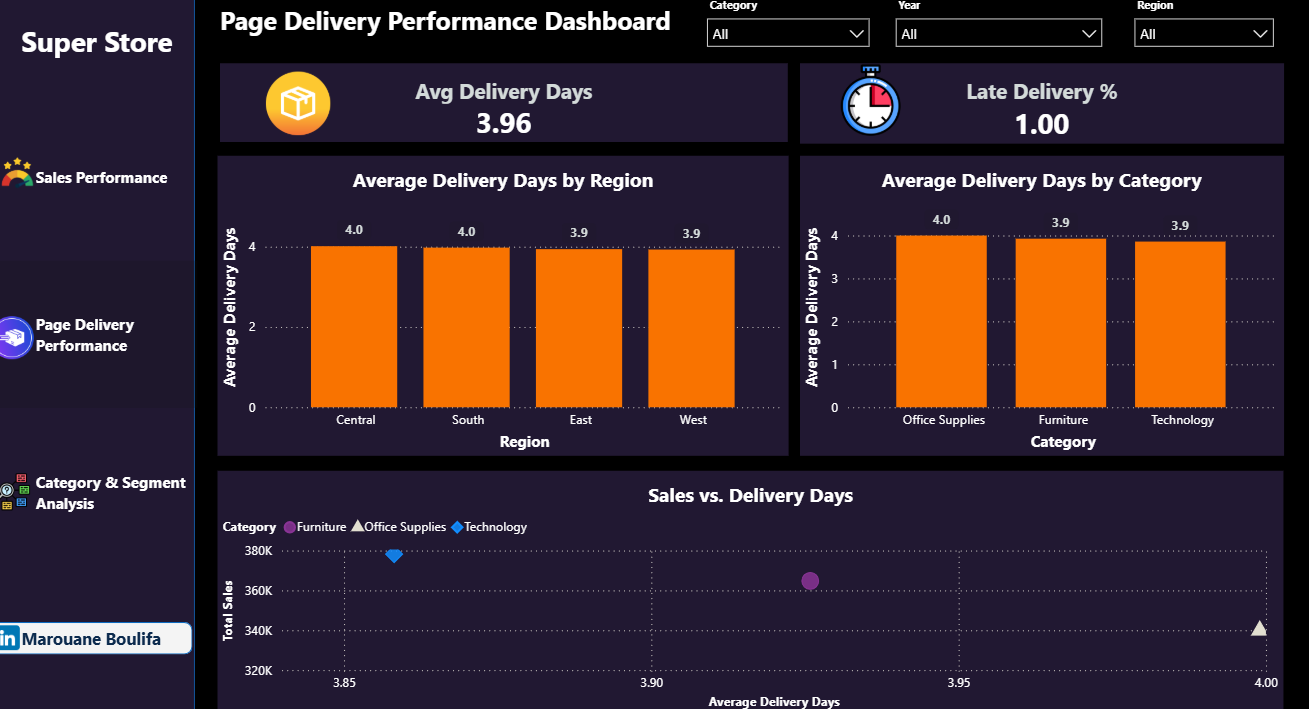

This screenshot's page, from the dashboard's own definition file:
{"tool":"powerbi","page":{"name":"Page Delivery Performance ","canvas":[1280,720],"ordinal":1},"visuals":[{"type":"card","title":"Avg Delivery Days","fields":{"Values":["Date_Table.Average Delivery Days"]},"box":[226.8,69.1,547.7,76],"z":0},{"type":"card","title":"Late Delivery %","fields":{"Values":["Date_Table.Late Delivery %"]},"box":[786.6,68.5,466.9,77.2],"z":1000},{"type":"clusteredColumnChart","title":"Average Delivery Days by Category","fields":{"Category":["train_clean.Category"],"Y":["Date_Table.Average Delivery Days"]},"box":[786.6,158,466.9,289.5],"z":2000},{"type":"clusteredColumnChart","title":"Average Delivery Days by Region","fields":{"Y":["Date_Table.Average Delivery Days"],"Category":["train_clean.Region"]},"box":[224.4,158,551.3,289.5],"z":3000},{"type":"scatterChart","title":"Sales vs. Delivery Days","fields":{"Series":["train_clean.Category"],"X":["Date_Table.Average Delivery Days"],"Y":["Date_Table.Total Sales"],"Size":["Date_Table.Total Sales"]},"box":[224.4,462.1,1029.1,235.3],"z":4000},{"type":"slicer","fields":{"Values":["train_clean.Category"]},"box":[686.5,0,177.3,60.3],"z":5000},{"type":"slicer","fields":{"Values":["Date_Table.Year"]},"box":[868.6,0,219.6,61.5],"z":6000},{"type":"slicer","fields":{"Values":["train_clean.Region"]},"box":[1099.1,0,154.4,60.3],"z":7000},{"type":"shape","box":[0,0,202.7,720.2],"z":8000},{"type":"shape","box":[226.8,0,436.7,54.3],"z":9000},{"type":"pageNavigator","box":[0,107.4,205.1,448.8],"z":10000},{"type":"shape","box":[0,16.9,216,59.1],"z":11000},{"type":"image","box":[10.9,152,41,44.6],"z":12000},{"type":"image","box":[0,306.4,51.9,54.3],"z":13000},{"type":"image","box":[264.2,62.7,76,89.3],"z":14000},{"type":"image","box":[815.6,62.7,78.4,83.2],"z":15000},{"type":"image","box":[0,459.7,51.9,45.8],"z":16000},{"type":"shape","box":[4.8,608,195.4,31.4],"z":16001},{"type":"image","box":[4.8,605.6,33.8,35],"z":16002}]}

Visuals, with their boxes on the page's 1280x720 design canvas (x1, y1, x2, y2). These are canvas units, not pixel positions in the 1309x709 screenshot, which may show the page scaled, cropped or inside an application window:
"Avg Delivery Days" card: 227, 69, 774, 145
"Late Delivery %" card: 787, 68, 1254, 146
"Average Delivery Days by Category" clusteredColumnChart: 787, 158, 1254, 448
"Average Delivery Days by Region" clusteredColumnChart: 224, 158, 776, 448
"Sales vs. Delivery Days" scatterChart: 224, 462, 1254, 697
slicer - train_clean.Category: 686, 0, 864, 60
slicer - Date_Table.Year: 869, 0, 1088, 62
slicer - train_clean.Region: 1099, 0, 1254, 60
shape: 0, 0, 203, 720
shape: 227, 0, 664, 54
pageNavigator: 0, 107, 205, 556
shape: 0, 17, 216, 76
image: 11, 152, 52, 197
image: 0, 306, 52, 361
image: 264, 63, 340, 152
image: 816, 63, 894, 146
image: 0, 460, 52, 506
shape: 5, 608, 200, 639
image: 5, 606, 39, 641
